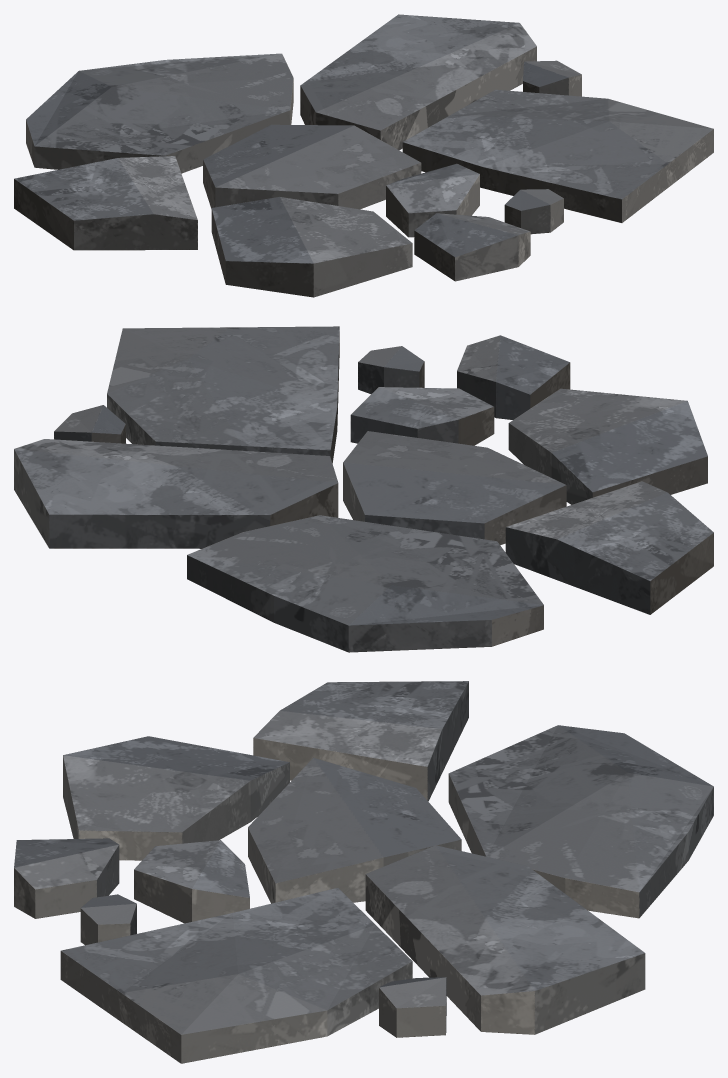
File: Path1.obj
3 views of the same model, one above another, from view 1: azimuth 30°, elevation 25°; view 2: azimuth 150°, elevation 25°; view 3: azimuth 270°, elevation 25° (orthographic). The views are drawn at different scales.
Visible parts, largest first — view 1: Path1; view 2: Path1; view 3: Path1.
Part boxes in pixels (x1,y1,x2,y2): Path1: [14, 14, 713, 297]; Path1: [14, 326, 713, 652]; Path1: [14, 681, 713, 1063].
Size of the model in its own units: 1.41 by 0.0833 by 1.21.
